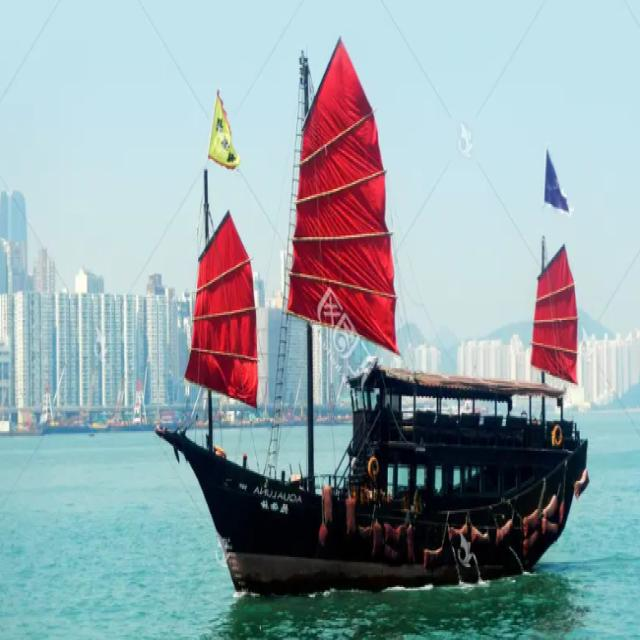houseboat: (159, 88, 590, 597)
